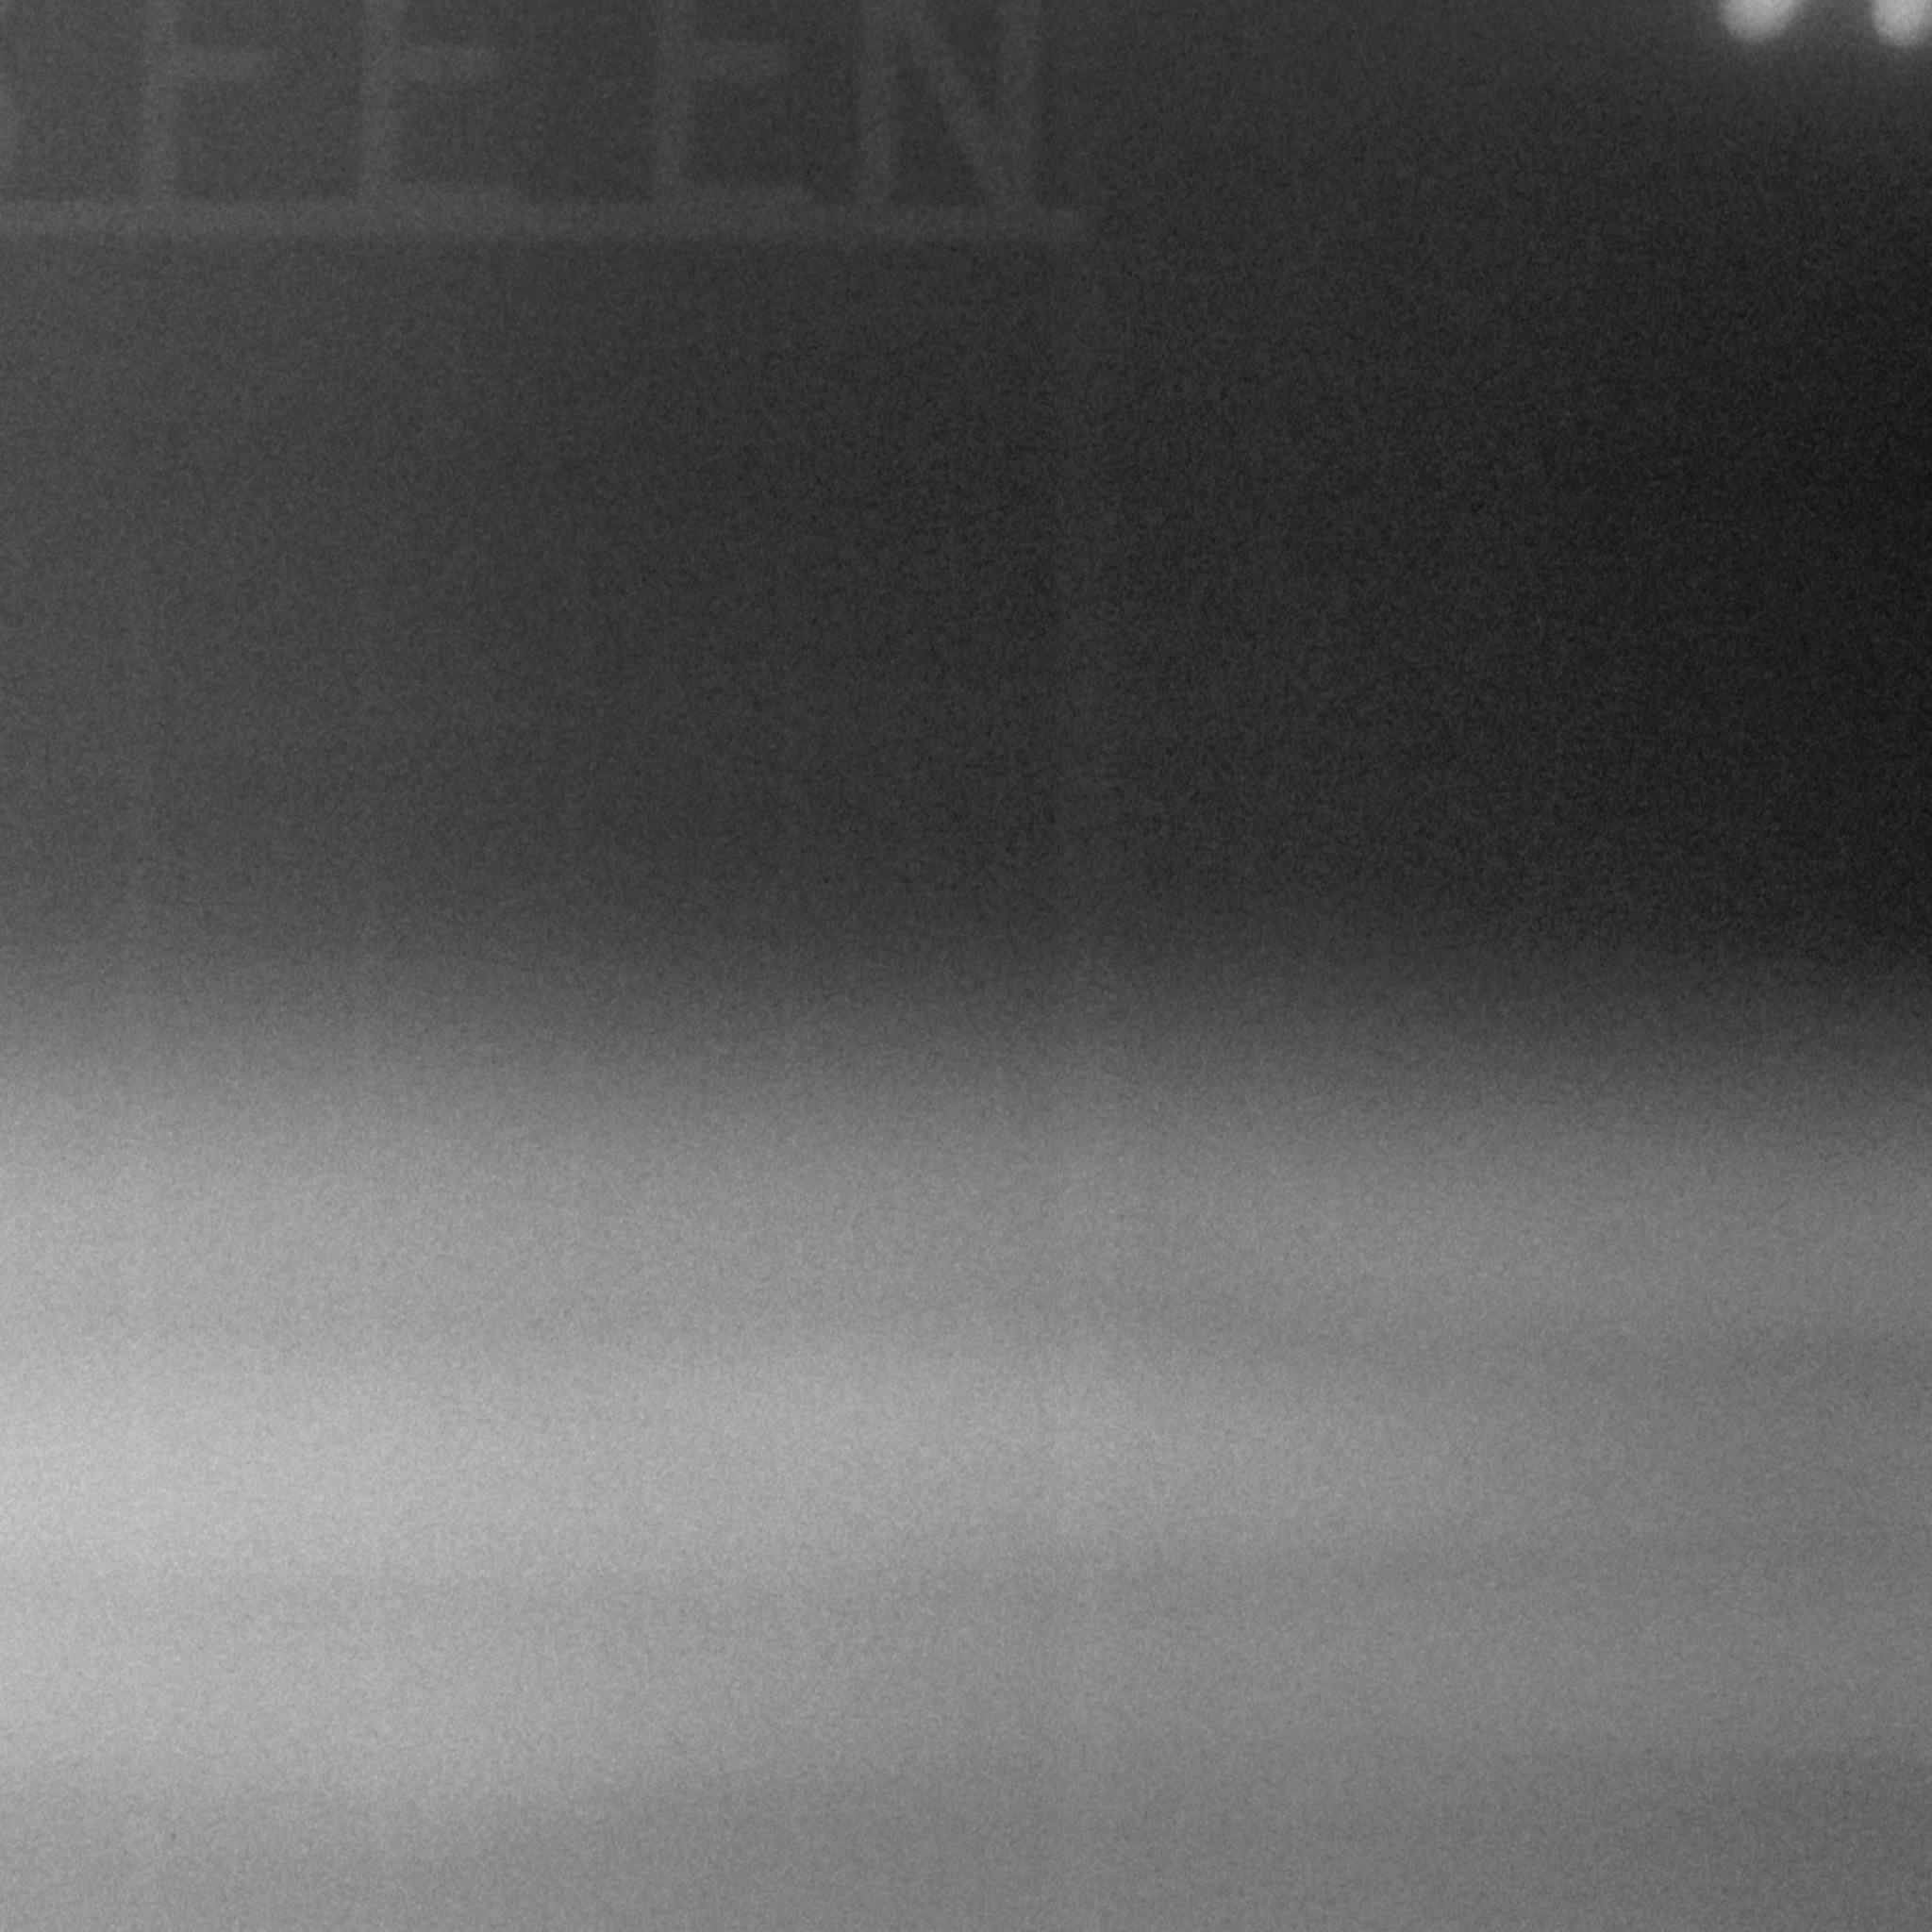PO: (163, 1822, 188, 1851)
